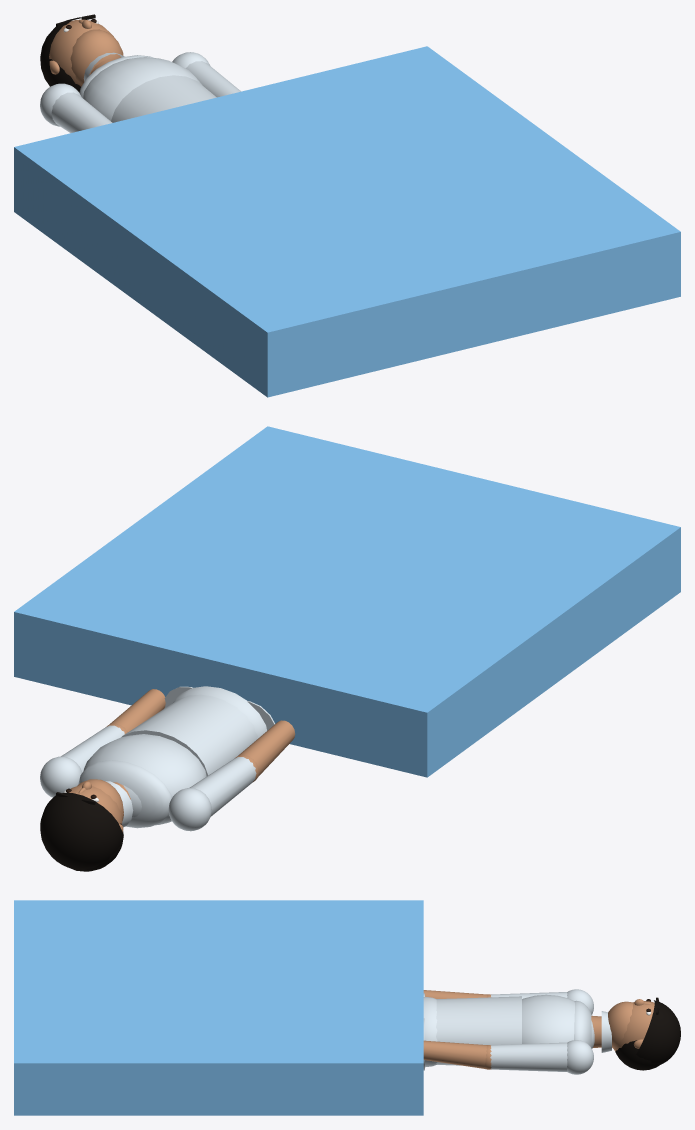
Rendered from patient.glb.
3 renders of one model, top to bottom at view 1: azimuth 30°, elevation 25°; view 2: azimuth 150°, elevation 25°; view 3: azimuth 270°, elevation 25°, orthographic. The views are drawn at different scales.
Parts seen in each view (by area): view 1: patient, arm (×2), object 2, object 1, object 8, object 7, object 22; view 2: patient, arm (×2), object 1, object 22, object 2, object 3, object 26; view 3: patient, arm (×2), object 1, object 2, object 22, object 7, object 8, object 3, object 26, object 23, object 6.
Boxes of the visible parts, x1,y1,x2,y2 form: patient: (14,46,680,397); arm (×2): (40,52,240,133); object 2: (83,57,202,120); object 1: (111,75,216,122); object 8: (70,29,123,85); object 7: (49,19,114,86); object 22: (40,17,91,84); patient: (14,426,680,777); arm (×2): (40,689,295,831); object 1: (121,694,257,776); object 22: (40,793,122,869); object 2: (83,734,206,825); object 3: (78,760,171,828); object 26: (172,686,266,738); patient: (14,900,423,1115); arm (×2): (423,989,593,1074); object 1: (436,996,521,1065); object 2: (522,994,594,1048); object 22: (636,1000,680,1065); object 7: (613,1001,654,1051); object 8: (608,1001,632,1048); object 3: (574,1000,591,1047); object 26: (423,996,437,1067); object 23: (615,1040,659,1070); object 6: (601,1011,611,1052).
Size of the model in its own units: 1.6 by 0.3934 by 2.77.
